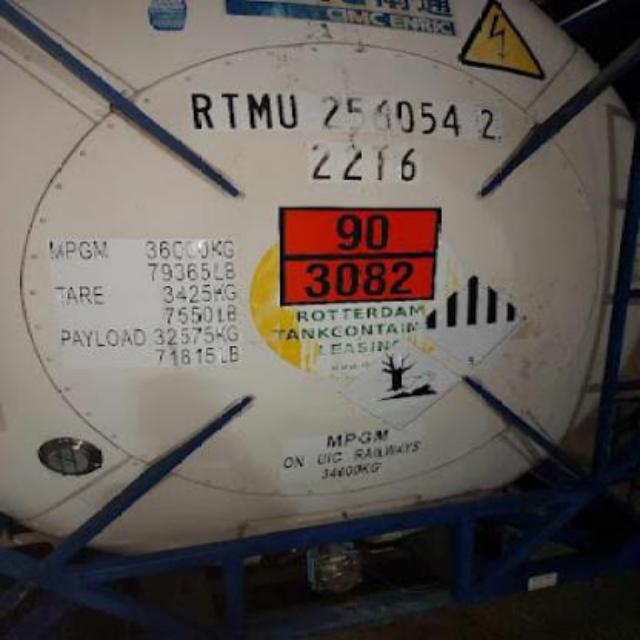0: (396, 98, 416, 132)
2: (322, 92, 346, 132), (480, 106, 498, 142)
4: (444, 102, 460, 136)
5: (418, 97, 438, 137), (348, 94, 364, 134)
6: (372, 96, 392, 132)
M: (246, 90, 274, 132)
R: (188, 90, 216, 132)
T: (220, 89, 242, 129)
U: (276, 90, 302, 130)
